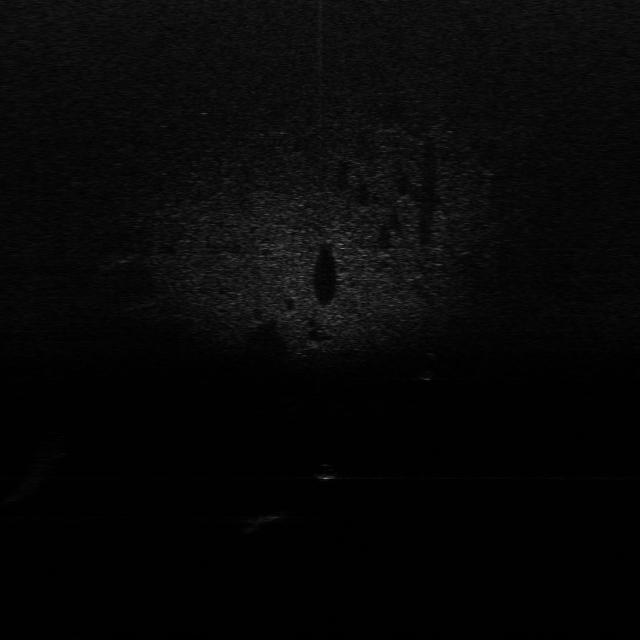ball: (310, 459, 342, 481)
square cage: (241, 508, 293, 528)
tyre: (414, 348, 442, 381)
